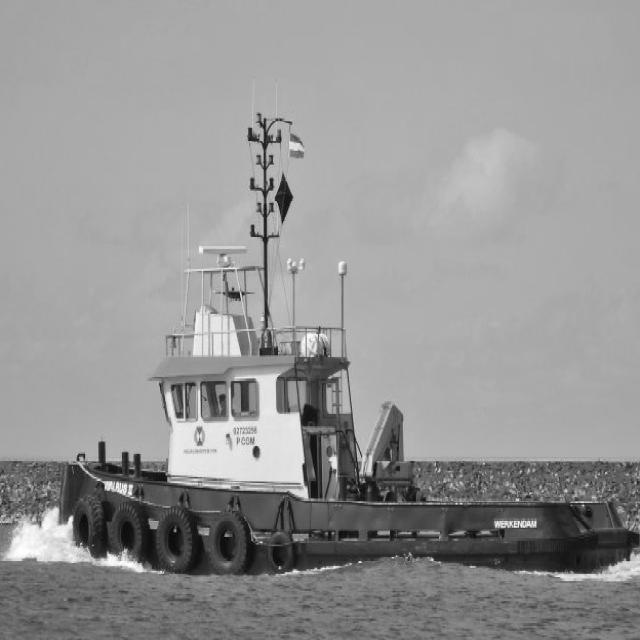tugboat: (55, 106, 640, 589)
